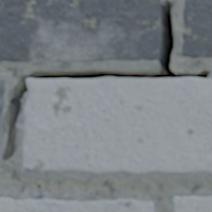brick: (23, 77, 211, 172), (0, 0, 161, 62), (0, 197, 153, 211), (182, 0, 211, 58), (174, 196, 211, 211), (0, 79, 6, 171)
crack: (2, 0, 210, 161)
